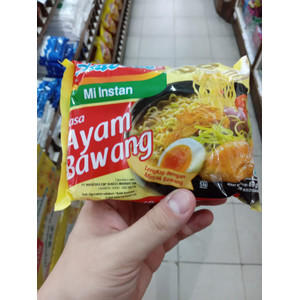Indomie Ayam Bawang (69g): (55, 54, 256, 202)
